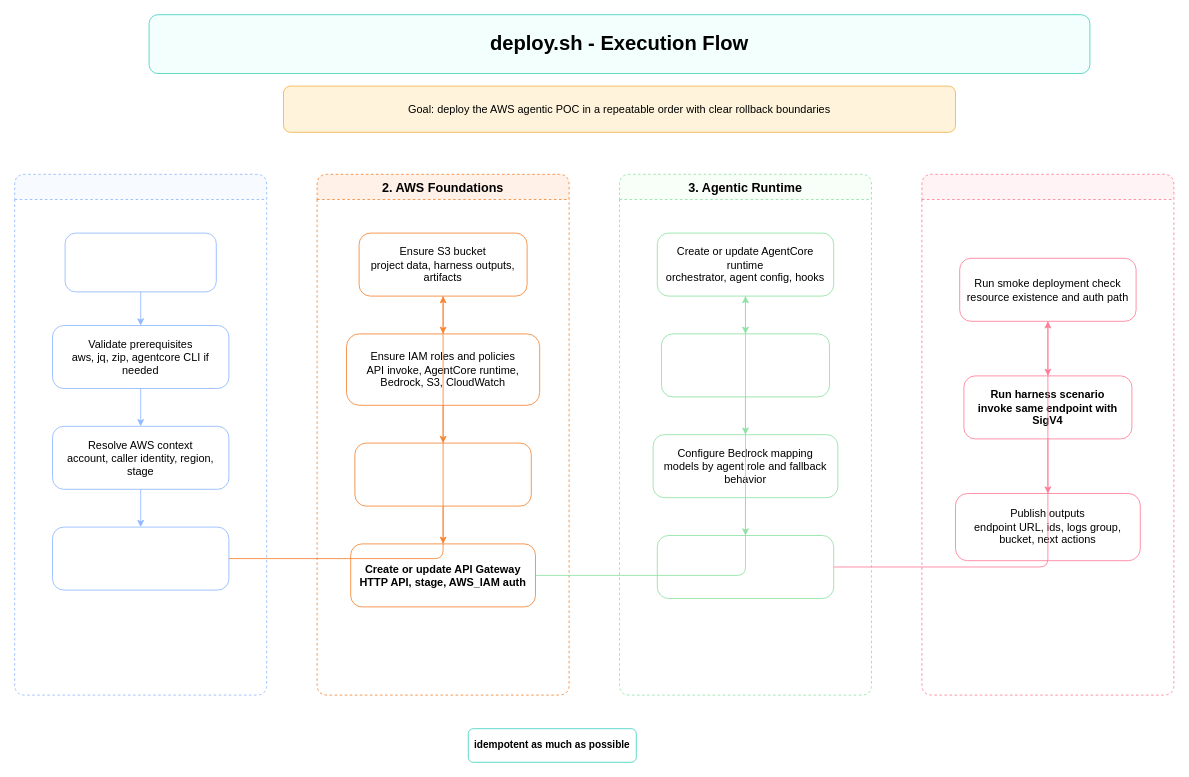
Image size: 1189x777. Some labels were removed from this diagram. Here are the shapes that lost their labels. From the top down, the box of each, then its label:
(64, 232, 216, 292): Load config env vars, names, region, tags
(661, 333, 830, 397): Create or update AgentCore Gateway tool surface and contracts
(14, 173, 267, 695): 1. Setup
(921, 173, 1174, 695): 4. Validation
(354, 442, 531, 506): Prepare artifacts contracts, hooks, config, scenario assets
(52, 526, 229, 590): Build deployment manifest stable names and resource inventory
(656, 535, 834, 598): Wire observability CloudWatch logs, retention, trace fields
